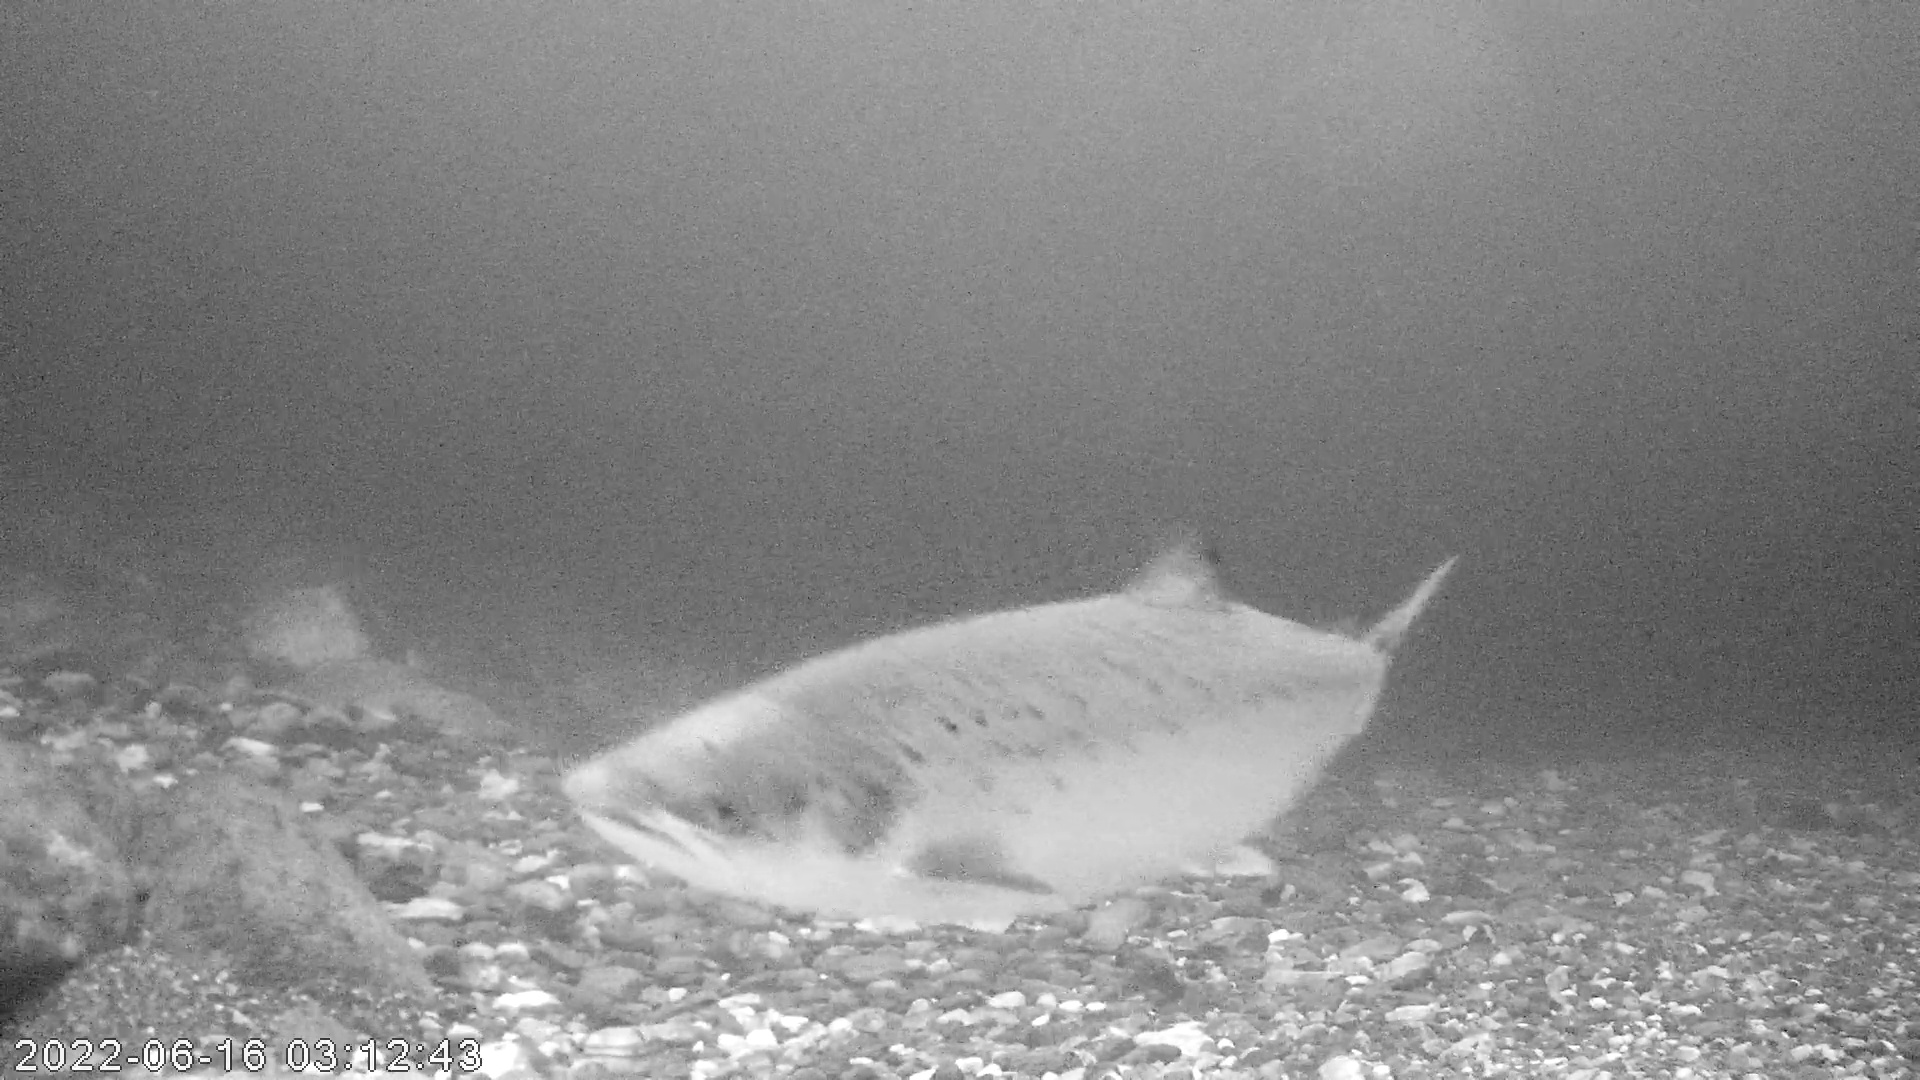salmon: (563, 522, 1462, 934)
